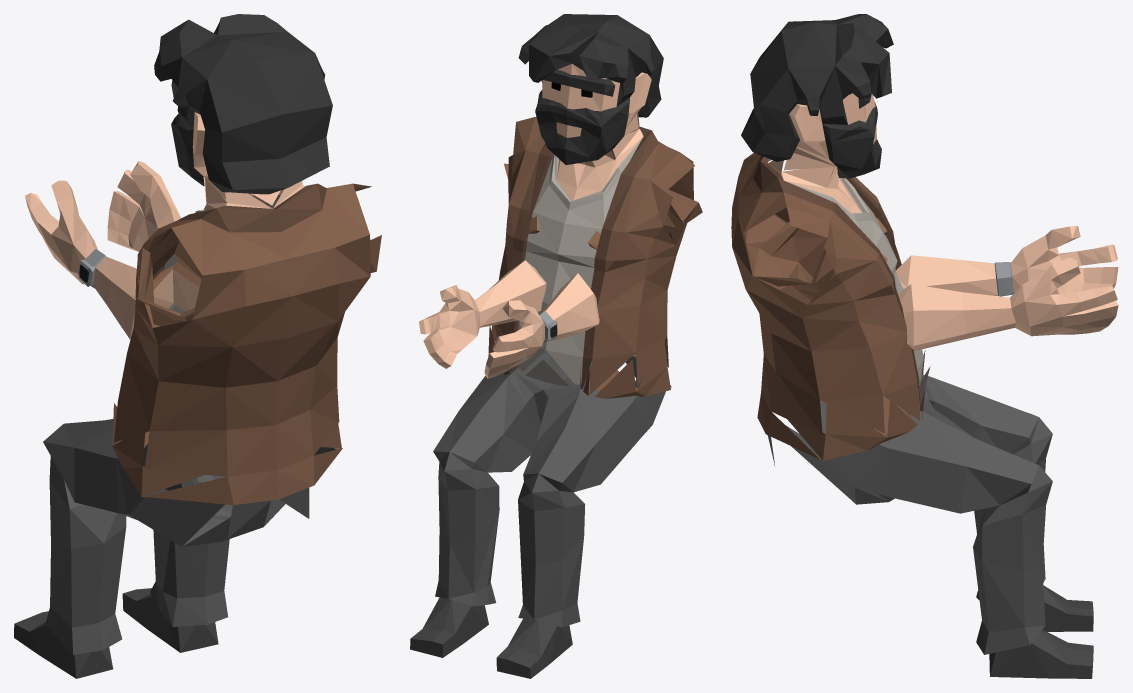
Rendered from Satan_throne.obj.
3 renders of one model, left to right at view 1: azimuth 30°, elevation 25°; view 2: azimuth 150°, elevation 25°; view 3: azimuth 270°, elevation 25°, orthographic. The views are drawn at different scales.
Visible parts, largest first — view 1: Satan_throne; view 2: Satan_throne; view 3: Satan_throne.
Boxes of the visible parts, <box> form: Satan_throne: <box>14,14,381,678</box>; Satan_throne: <box>410,14,702,678</box>; Satan_throne: <box>731,14,1118,678</box>.
Bounding box in the file's own units: 0.554 × 1.48 × 0.8376.
Materials: 1 (1 with a texture image).
